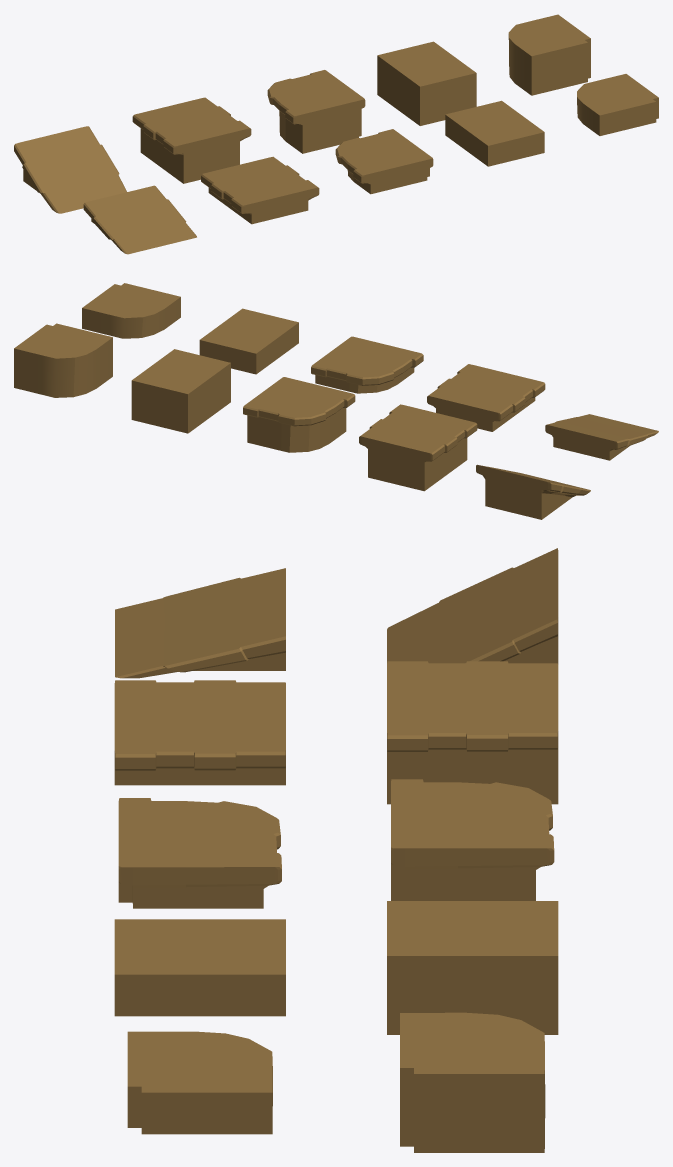
File: Exterior_Ramp_Modular_Meshes_01.fbx
3 views of the same model, one above another, from view 1: azimuth 30°, elevation 25°; view 2: azimuth 150°, elevation 25°; view 3: azimuth 270°, elevation 25° (orthographic). The views are drawn at different scales.
Parts seen in each view (by area): view 1: Exterior_Platform_High, Exterior_Ramp_High, Exterior_Platform_Support_High, Exterior_Corner_High, Exterior_Corner_Support_High, Exterior_Platform_Low, Exterior_Ramp_Low, Exterior_Platform_Support_Low, Exterior_Corner_Low, Exterior_Corner_Support_Low; view 2: Exterior_Platform_High, Exterior_Platform_Support_High, Exterior_Corner_High, Exterior_Corner_Support_High, Exterior_Platform_Low, Exterior_Corner_Low, Exterior_Platform_Support_Low, Exterior_Corner_Support_Low, Exterior_Ramp_High, Exterior_Ramp_Low; view 3: Exterior_Platform_High, Exterior_Platform_Support_High, Exterior_Corner_Support_High, Exterior_Corner_High, Exterior_Platform_Low, Exterior_Platform_Support_Low, Exterior_Corner_Low, Exterior_Corner_Support_Low, Exterior_Ramp_Low, Exterior_Ramp_High.
Boxes of the visible parts, left/top/right/bottom form: Exterior_Platform_High: left=132, top=97, right=251, bottom=183; Exterior_Ramp_High: left=14, top=126, right=126, bottom=213; Exterior_Platform_Support_High: left=377, top=41, right=476, bottom=125; Exterior_Corner_High: left=267, top=70, right=365, bottom=153; Exterior_Corner_Support_High: left=508, top=14, right=590, bottom=95; Exterior_Platform_Low: left=201, top=156, right=319, bottom=224; Exterior_Ramp_Low: left=83, top=185, right=196, bottom=254; Exterior_Platform_Support_Low: left=445, top=100, right=544, bottom=166; Exterior_Corner_Low: left=335, top=129, right=433, bottom=194; Exterior_Corner_Support_Low: left=577, top=74, right=658, bottom=135; Exterior_Platform_High: left=359, top=404, right=477, bottom=491; Exterior_Platform_Support_High: left=131, top=349, right=230, bottom=433; Exterior_Corner_High: left=243, top=377, right=355, bottom=452; Exterior_Corner_Support_High: left=14, top=323, right=112, bottom=397; Exterior_Platform_Low: left=427, top=364, right=545, bottom=431; Exterior_Corner_Low: left=311, top=336, right=423, bottom=393; Exterior_Platform_Support_Low: left=199, top=308, right=298, bottom=374; Exterior_Corner_Support_Low: left=82, top=283, right=180, bottom=338; Exterior_Ramp_High: left=476, top=464, right=590, bottom=519; Exterior_Ramp_Low: left=545, top=414, right=658, bottom=460; Exterior_Platform_High: left=387, top=661, right=558, bottom=804; Exterior_Platform_Support_High: left=387, top=901, right=558, bottom=1034; Exterior_Corner_Support_High: left=400, top=1012, right=545, bottom=1152; Exterior_Corner_High: left=391, top=779, right=554, bottom=900; Exterior_Platform_Low: left=114, top=680, right=285, bottom=785; Exterior_Platform_Support_Low: left=114, top=919, right=285, bottom=1016; Exterior_Corner_Low: left=118, top=798, right=281, bottom=908; Exterior_Corner_Support_Low: left=127, top=1031, right=272, bottom=1134; Exterior_Ramp_Low: left=115, top=568, right=285, bottom=678; Exterior_Ramp_High: left=387, top=548, right=558, bottom=664.
Size of the model in its own units: 153 by 10.66 by 54.33.
